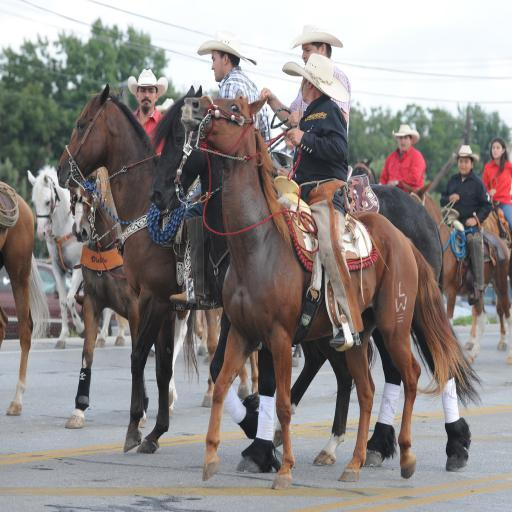horse: (28, 82, 511, 493), (402, 181, 512, 365), (25, 162, 125, 352), (0, 182, 52, 419), (462, 212, 512, 350)
